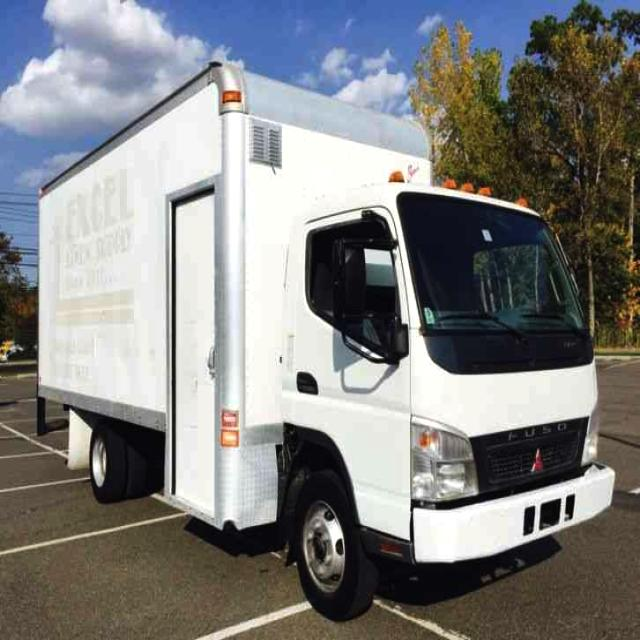truck: (35, 55, 617, 619)
